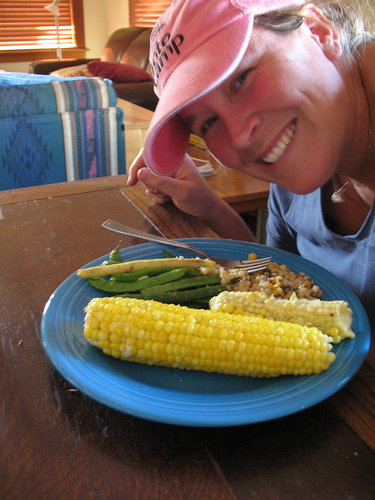corn: (81, 291, 333, 377), (206, 290, 358, 343)
